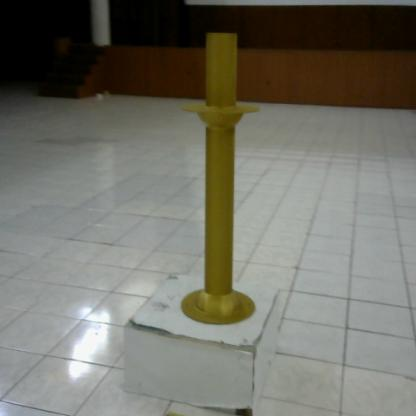pole: (173, 25, 265, 330)
